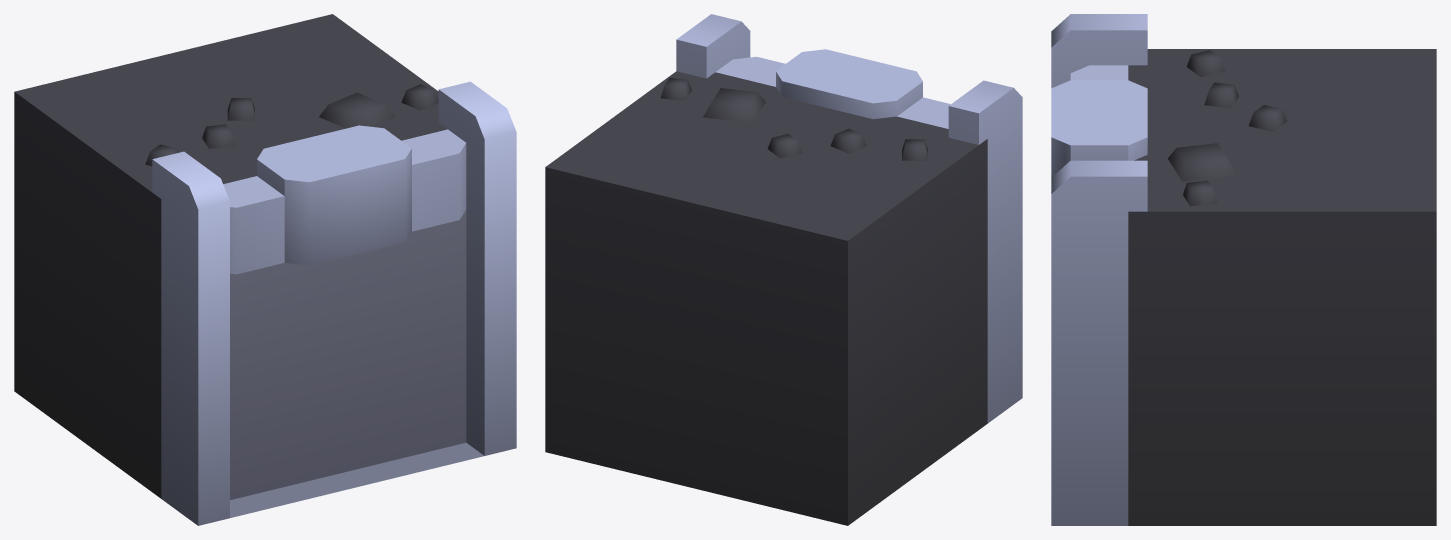
The picture shows the model from 3 angles, left to right: view 1: azimuth 30°, elevation 25°; view 2: azimuth 150°, elevation 25°; view 3: azimuth 270°, elevation 25°; orthographic projection. The views are drawn at different scales.
Visible parts, largest first — view 1: wall-half; view 2: wall-half; view 3: wall-half.
Boxes of the visible parts, x1,y1,x2,y2 form: wall-half: (14,14,516,525); wall-half: (545,14,1022,525); wall-half: (1051,14,1436,525).
Size of the model in its own units: 1 by 1 by 1.
1 material, 1 textured.
